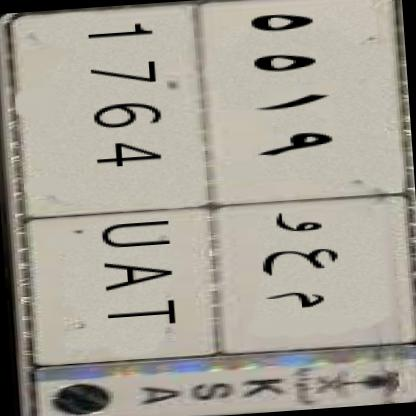english: (0, 0, 237, 380)
